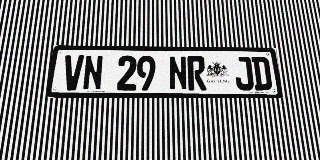2: (117, 55, 137, 90)
9: (137, 56, 156, 90)
D: (251, 57, 273, 90)
J: (233, 56, 254, 90)
N: (82, 55, 103, 90), (168, 56, 188, 90)
R: (187, 56, 207, 90)
V: (62, 55, 84, 90)
